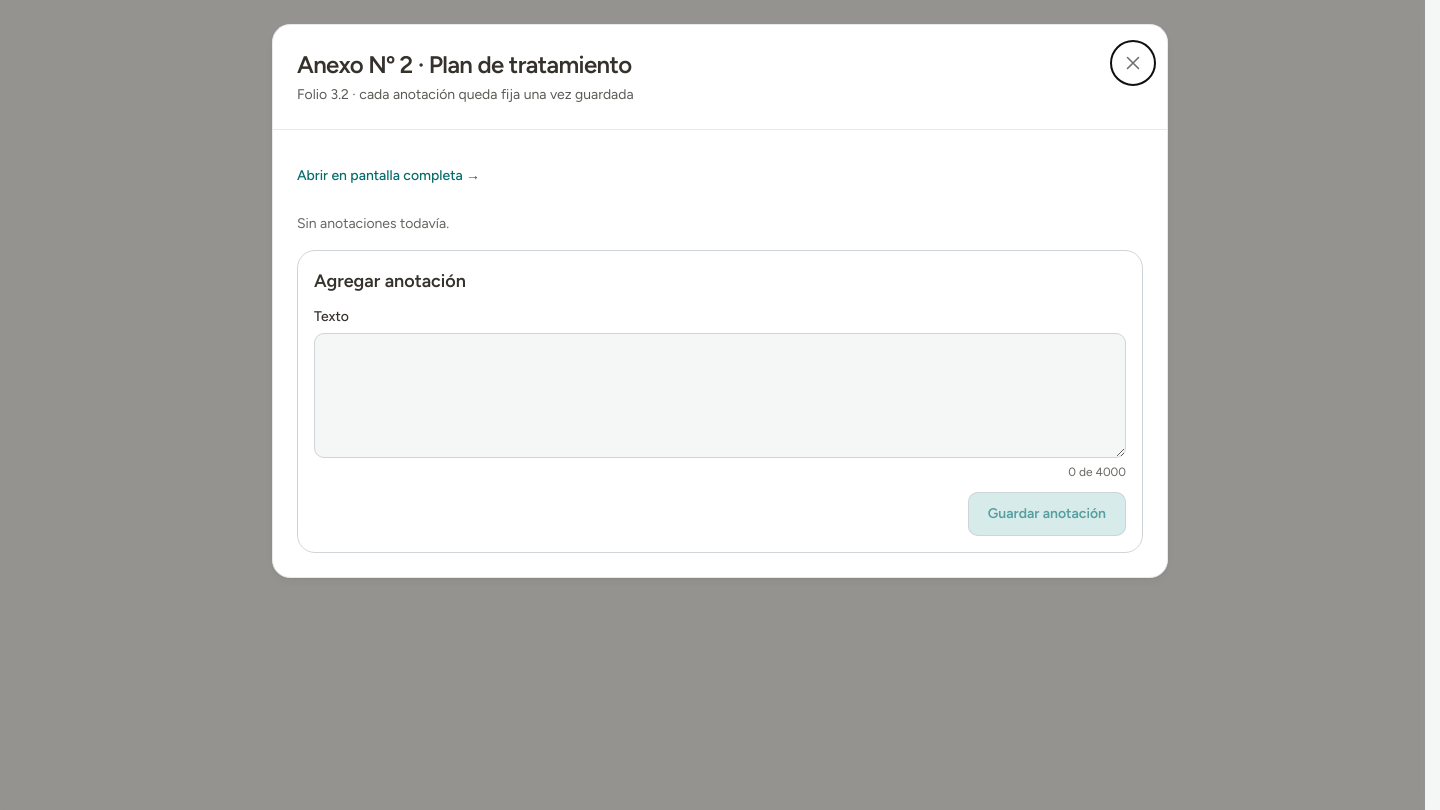
Test: la anotación nueva › si la API lo rechaza, muestra el error y conserva lo escrito
Type "Control." into the text box labelled "Texto 0 de 4000" at (720,396), box [314,333,1126,458]
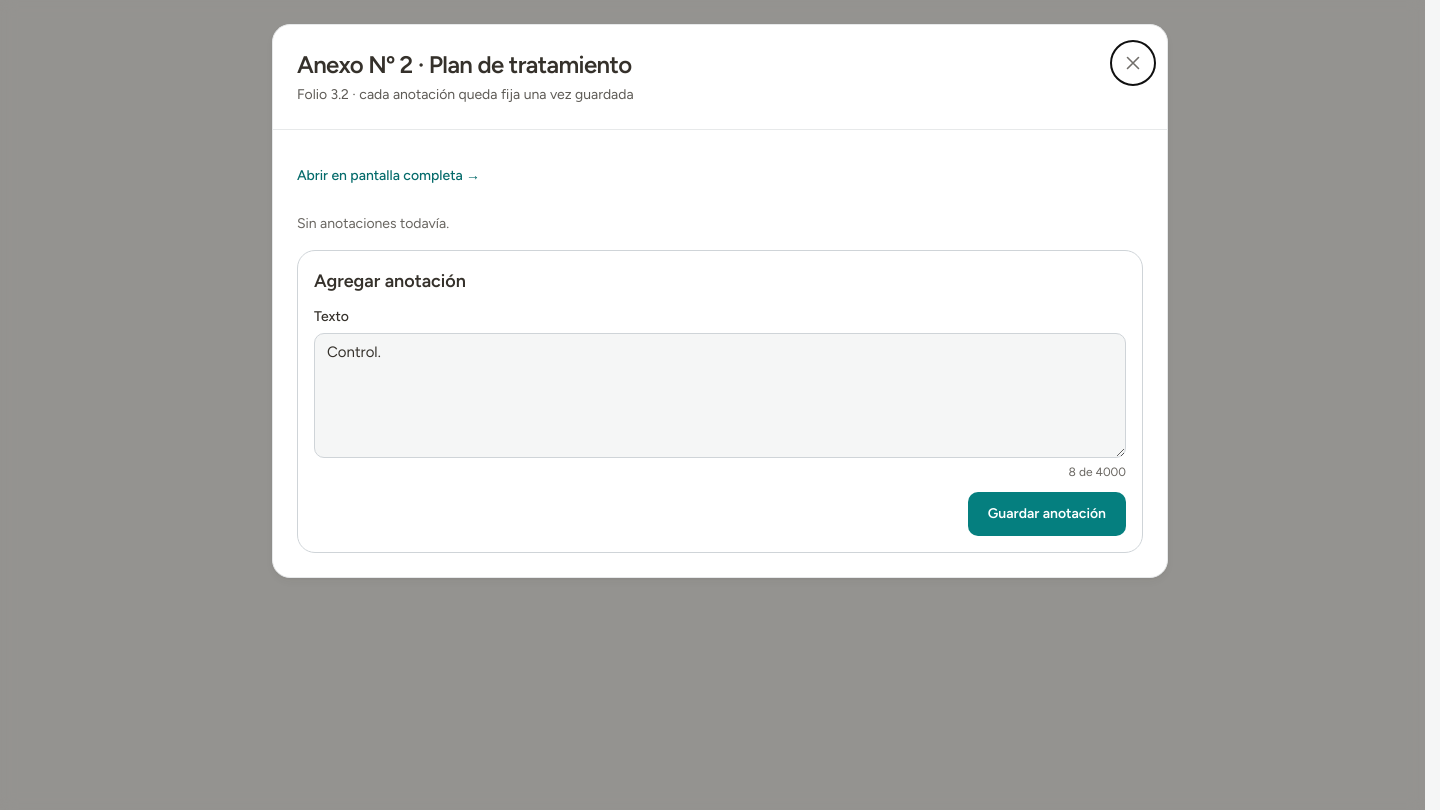
Click the button "Guardar anotación" at (1047,514), box [968,492,1126,536]
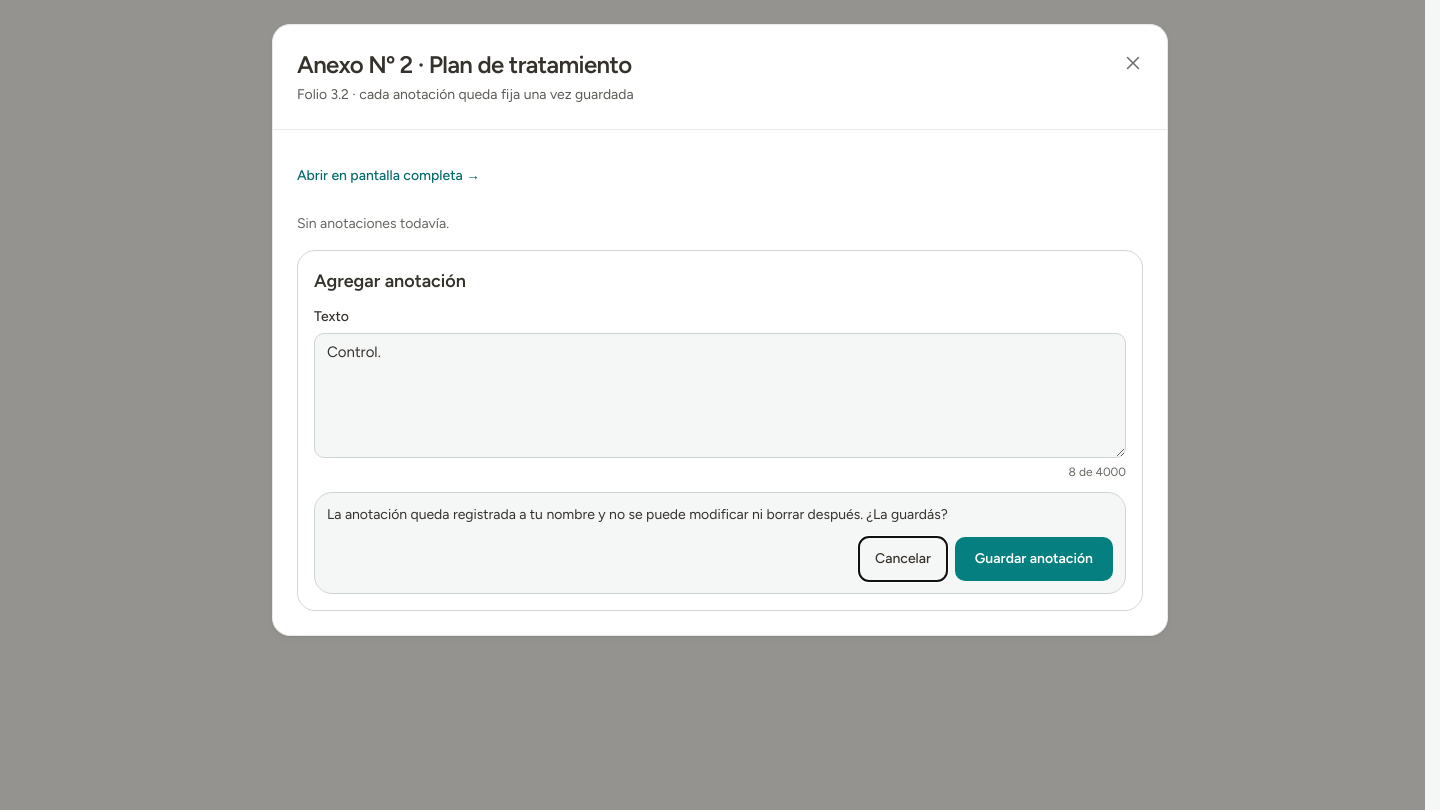
Click the button "Guardar anotación" at (1034,559), box [955,537,1113,581]
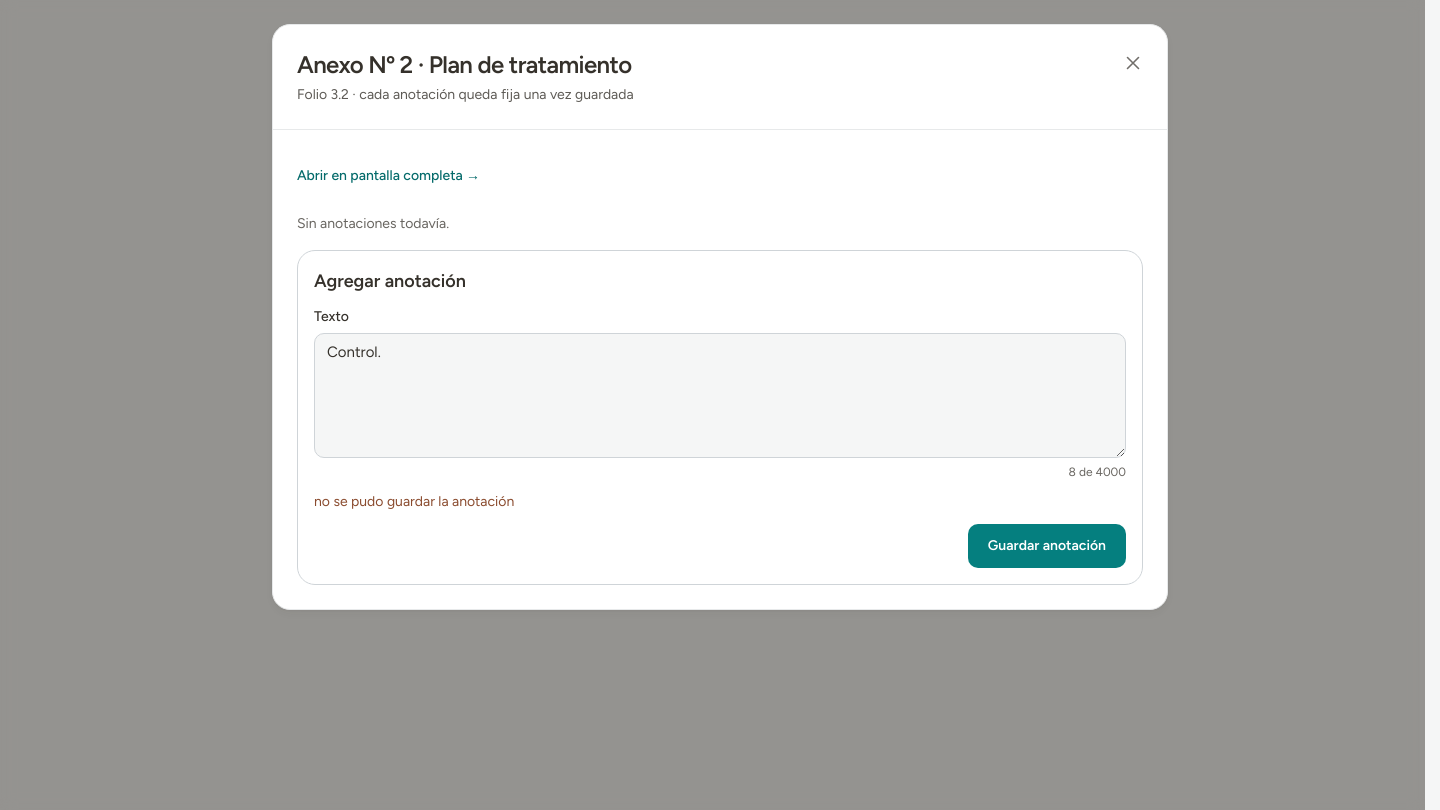
Expected: the button "Guardar anotación" is enabled, [968,524,1126,568]
Expected: the message reads "no se pudo guardar la anotación", [314,493,514,510]
